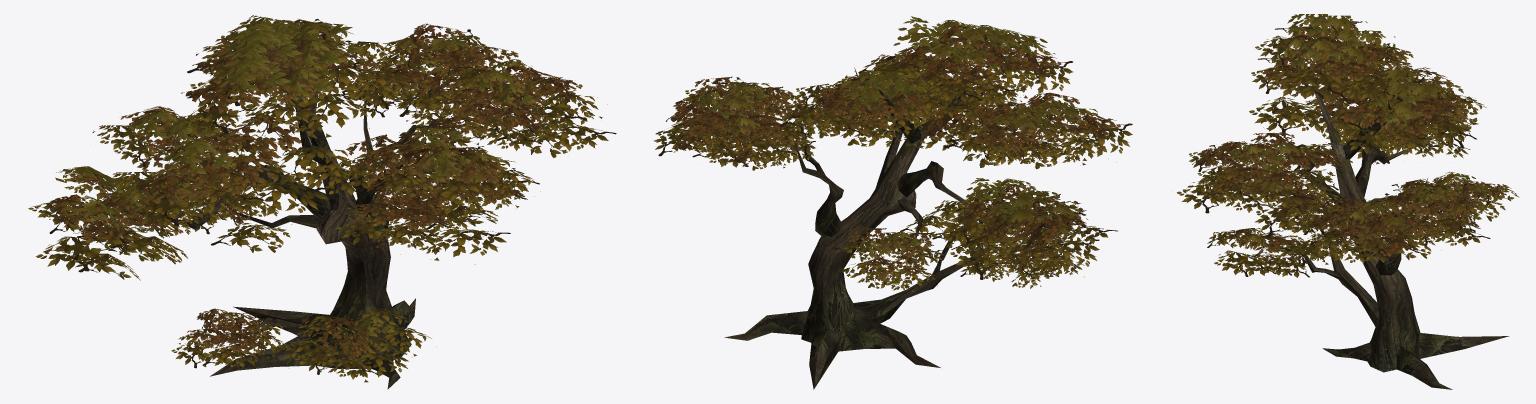
The model's file is 4005_Item_shu_6.FBX.
The picture shows the model from 3 angles, left to right: view 1: azimuth 30°, elevation 25°; view 2: azimuth 150°, elevation 25°; view 3: azimuth 270°, elevation 25°; orthographic projection. The views are drawn at different scales.
Parts seen in each view (by area): view 1: 4005_Item_shu_6; view 2: 4005_Item_shu_6; view 3: 4005_Item_shu_6.
Boxes of the visible parts, x1,y1,x2,y2 form: 4005_Item_shu_6: (28, 15, 616, 389); 4005_Item_shu_6: (654, 16, 1132, 389); 4005_Item_shu_6: (1177, 14, 1519, 389).
Bounding box in the file's own units: 720 × 475 × 531.
